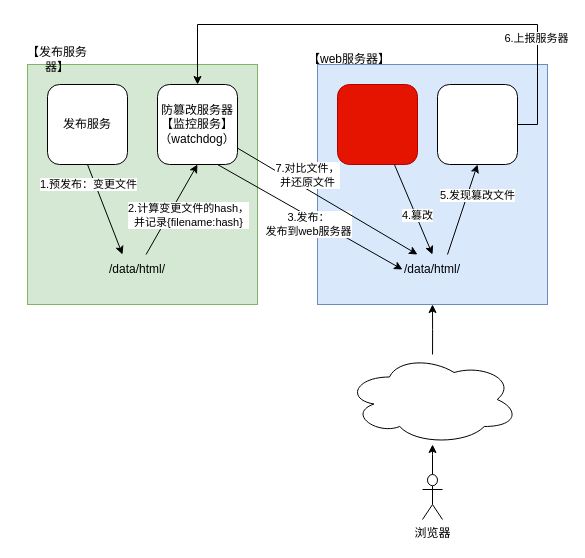
Some shapes in this 585 by 558 pixel diagram are drawn without their labels. The centre of each missing label's shape, as x and y in pixels:
"篡改者 ！" goes at (x=377, y=124).
"防篡改客户端 【监控服务】 （watchdog）" goes at (x=477, y=124).
